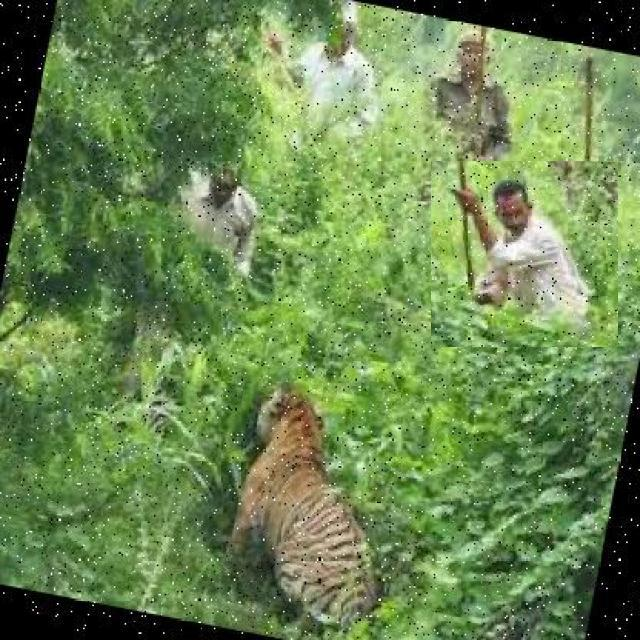Hunter: (431, 162, 618, 348), (275, 2, 380, 190), (418, 28, 524, 192), (163, 156, 269, 266)
Tiger: (218, 382, 404, 616)
